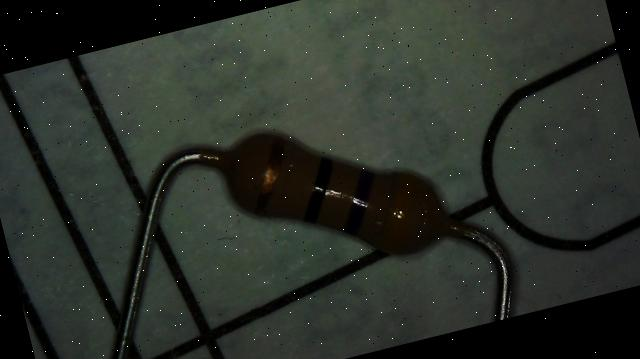black: (290, 155, 346, 224)
gold: (237, 134, 300, 216)
resistor: (212, 108, 475, 279)
violet: (330, 166, 386, 237)
yellow: (366, 170, 430, 252)
